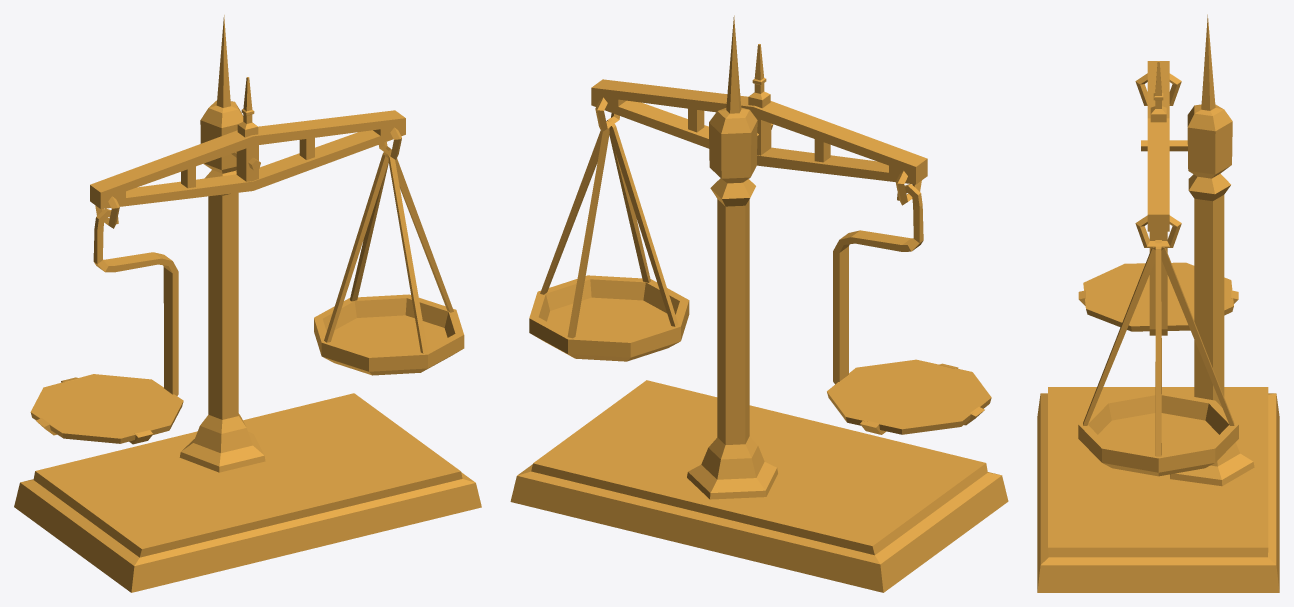
The model's file is SM_Scales_Balance_B.fbx.
3 views of the same model, side by side, from view 1: azimuth 30°, elevation 25°; view 2: azimuth 150°, elevation 25°; view 3: azimuth 270°, elevation 25° (orthographic). The views are drawn at different scales.
Parts seen in each view (by area): view 1: scales-balance-b; view 2: scales-balance-b; view 3: scales-balance-b.
Boxes of the visible parts, <box> form: scales-balance-b: <box>14,15,481,592</box>; scales-balance-b: <box>510,15,1008,592</box>; scales-balance-b: <box>1037,14,1279,592</box>.
Size of the model in its own units: 0.7081 by 0.7732 by 0.3458.
